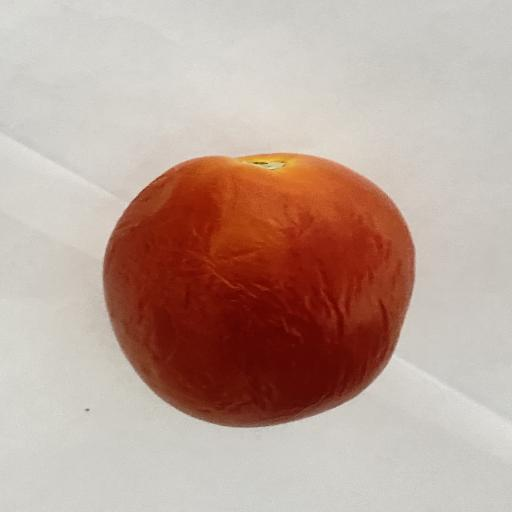spoiled: (103, 153, 415, 427)
